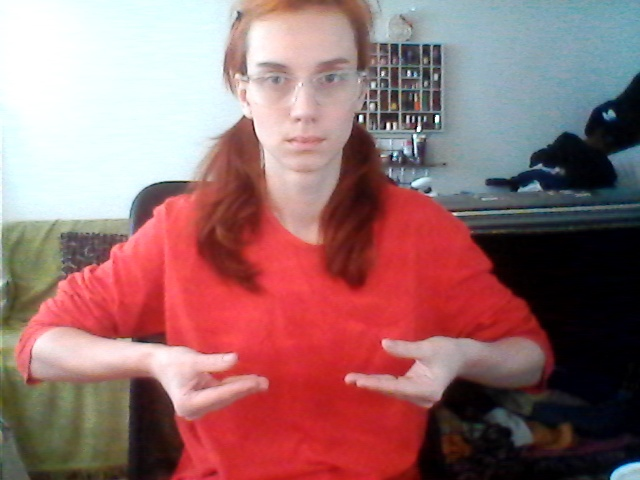drzat: (166, 326, 451, 418)
